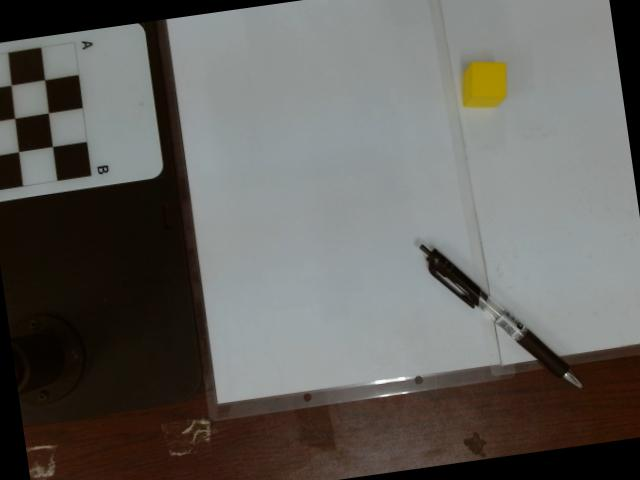PEN: (408, 237, 587, 398)
